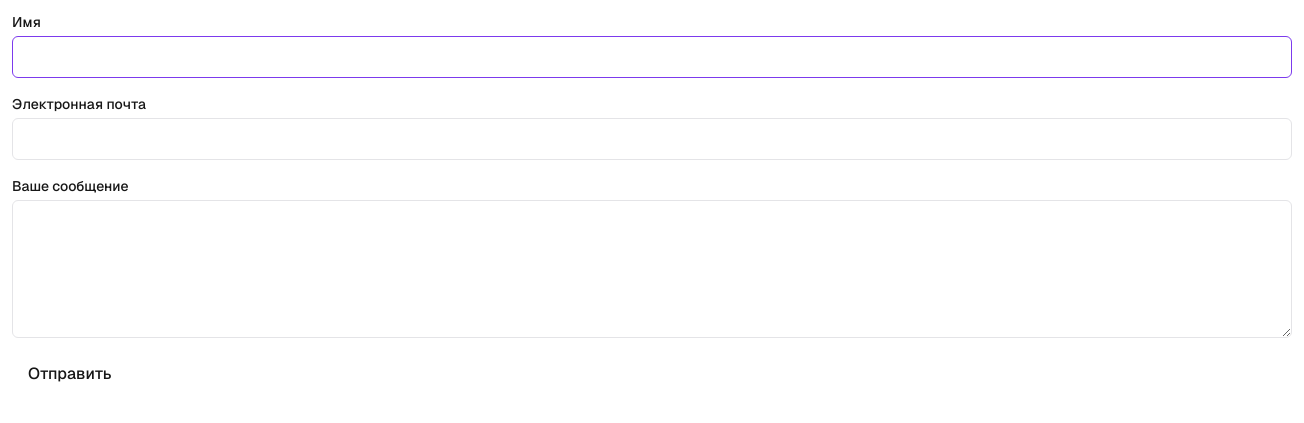
it: ContactForm › shows the action's own field errors
In the field labelled "Имя": (652, 57) [12,36,1292,78], type "Анна"
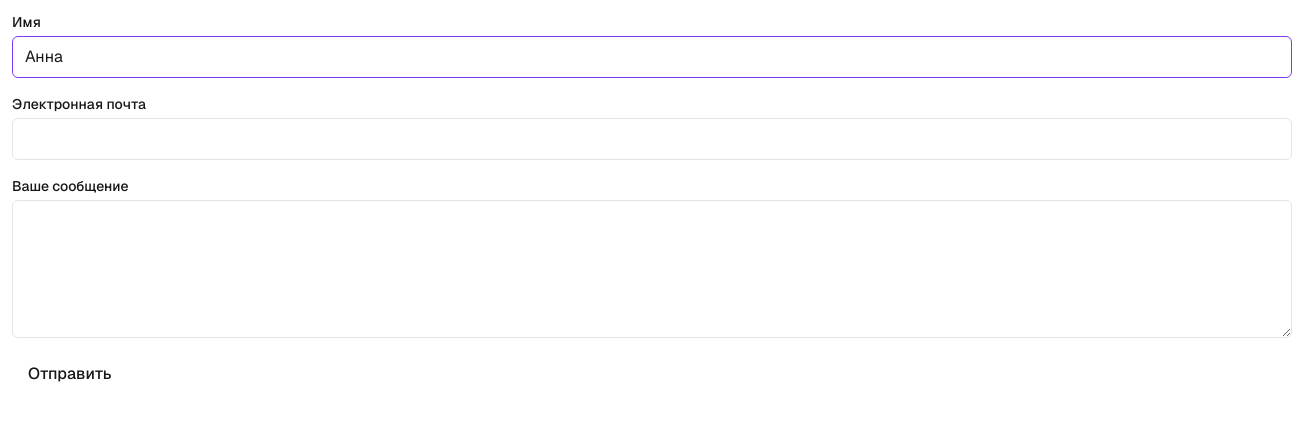
In the field labelled "Электронная почта": (652, 139) [12,118,1292,160], type "anna@example.com"
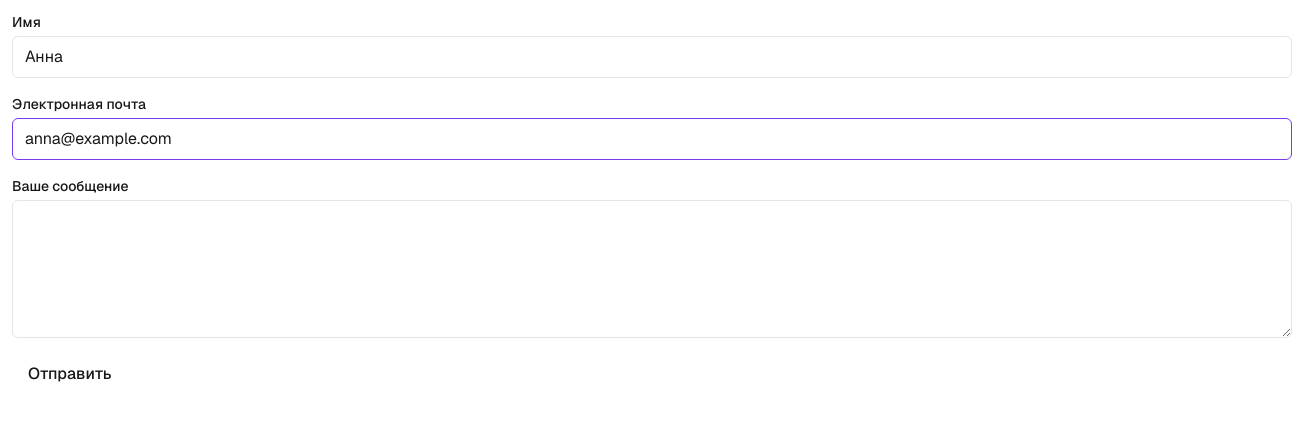
Click the button "Отправить": (70, 374) [12,354,128,394]
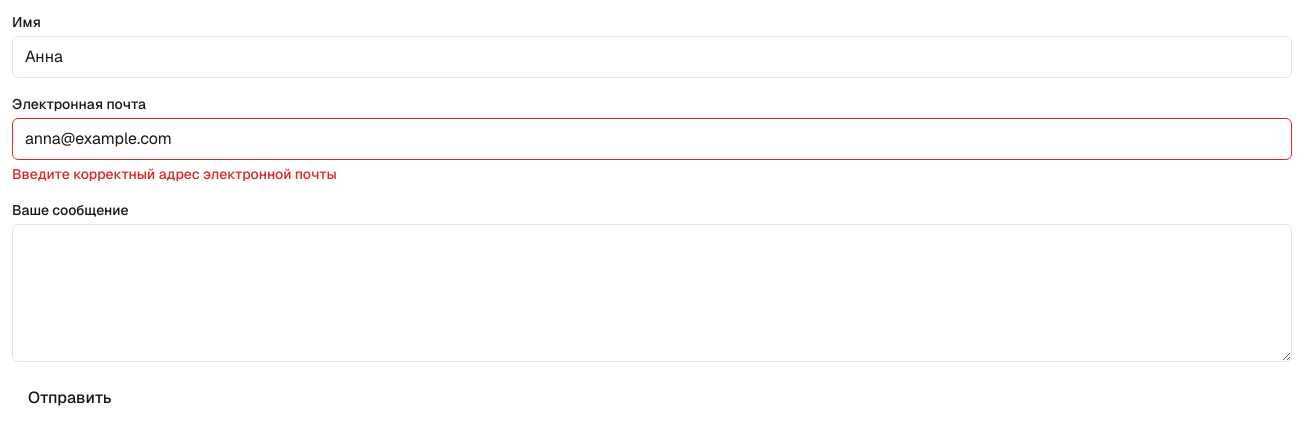
Now the text "Введите корректный адрес электронной почты" is shown, box [12,165,337,183]
